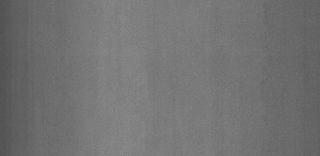silk spot: (259, 15, 289, 129)
